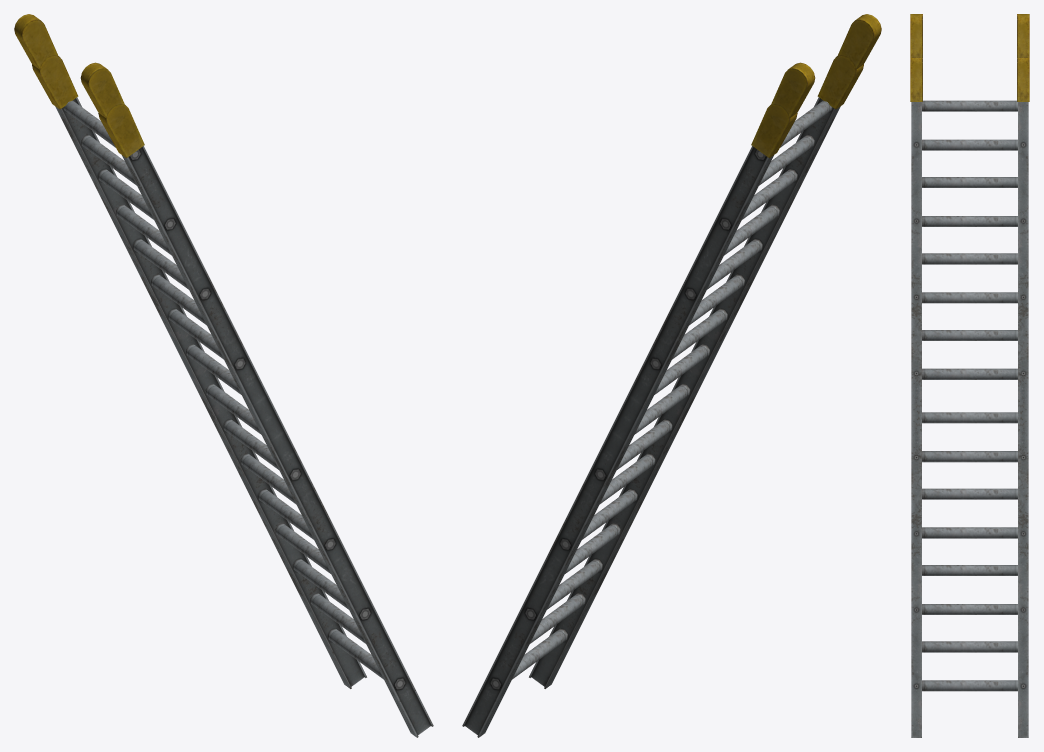
Rendered from SM_Ladder.gltf.
3 views of the same model, side by side, from view 1: azimuth 30°, elevation 25°; view 2: azimuth 150°, elevation 25°; view 3: azimuth 270°, elevation 25° (orthographic). The views are drawn at different scales.
Visible parts, largest first — view 1: SM_Ladder_L2, BP_Ladder; view 2: BP_Ladder, SM_Ladder_L2; view 3: BP_Ladder, SM_Ladder_L2.
Boxes of the visible parts, x1,y1,x2,y2 form: SM_Ladder_L2: [14, 14, 415, 701]; BP_Ladder: [32, 55, 433, 737]; BP_Ladder: [462, 55, 863, 737]; SM_Ladder_L2: [481, 14, 881, 701]; BP_Ladder: [910, 58, 1029, 737]; SM_Ladder_L2: [910, 14, 1029, 652].
Size of the model in its own units: 2.47 by 5.1 by 0.9184.
1 material, 1 textured.
